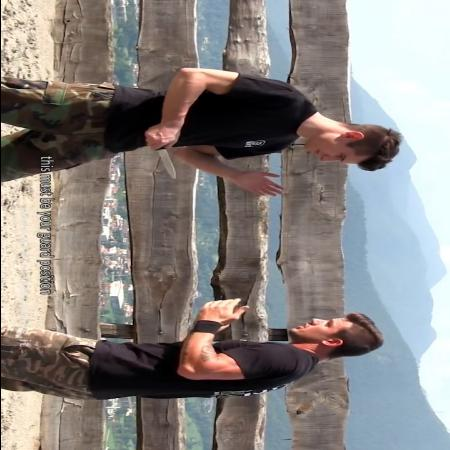long weapon: (142, 124, 182, 182)
